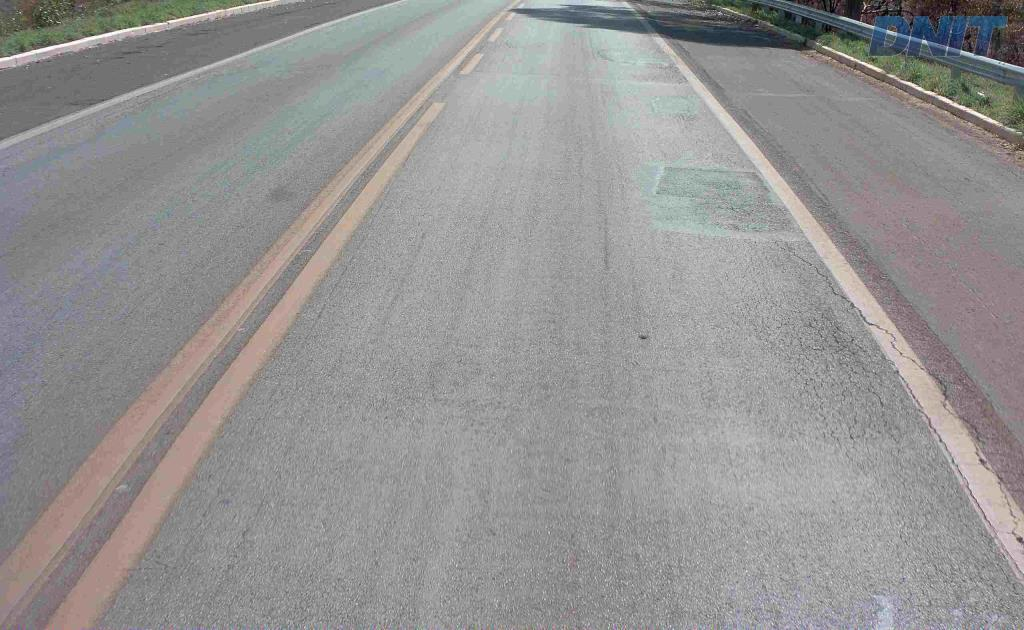crack: (805, 313, 866, 359)
